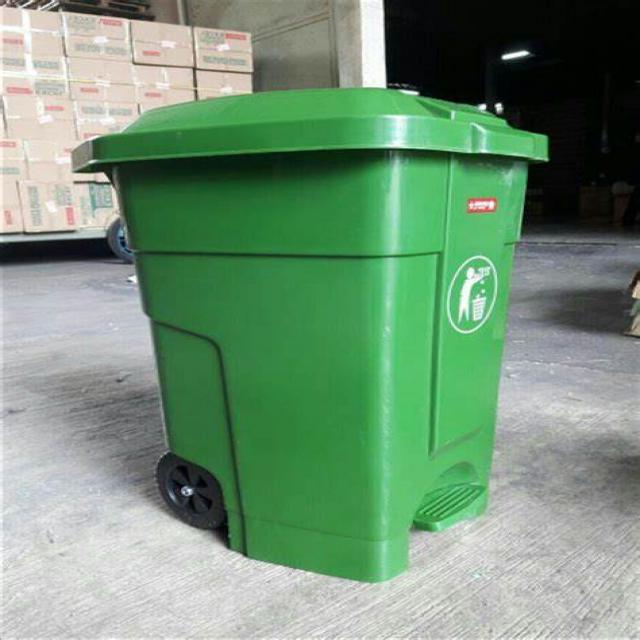garbage container: (60, 75, 569, 594)
